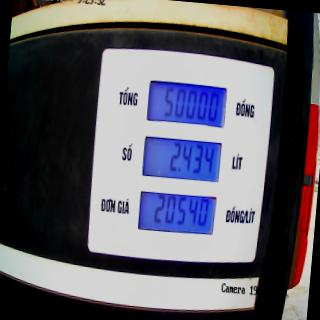screen: (134, 74, 230, 242)
